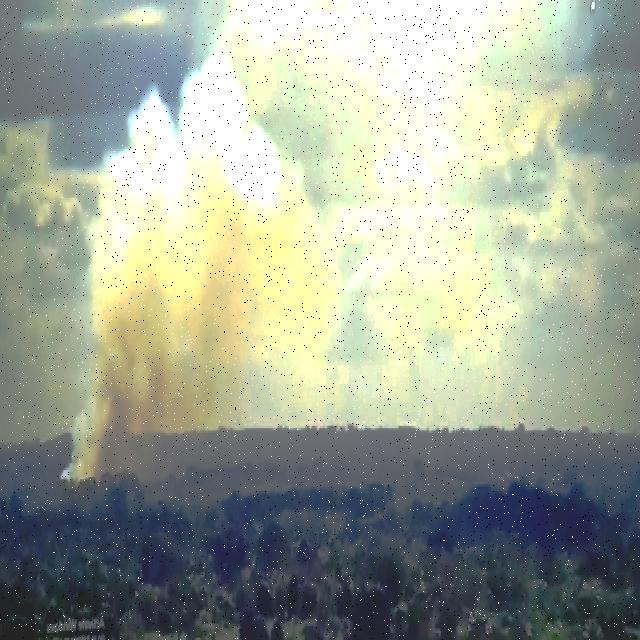asap: (56, 52, 340, 513)
